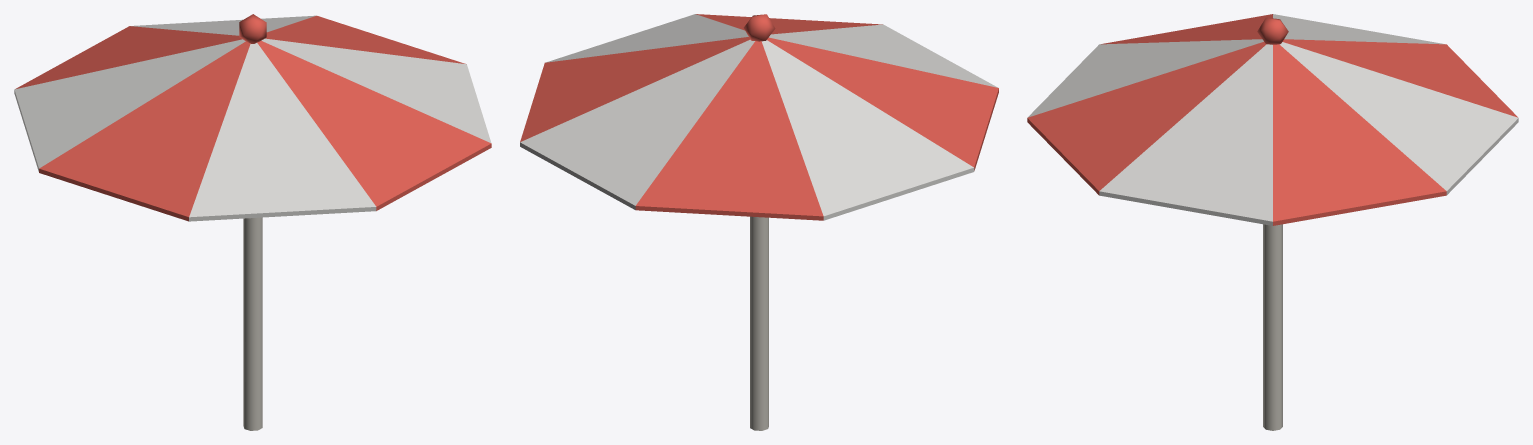
File: beach_umbrella.fbx
3 views of the same model, side by side, from view 1: azimuth 30°, elevation 25°; view 2: azimuth 150°, elevation 25°; view 3: azimuth 270°, elevation 25° (orthographic).
Visible parts, largest first — view 1: beach_umbrella; view 2: beach_umbrella; view 3: beach_umbrella.
Part boxes in pixels (box(x1,y1,x2,y2)): beach_umbrella: box(14, 14, 491, 430); beach_umbrella: box(520, 14, 998, 430); beach_umbrella: box(1027, 14, 1518, 430).
Size of the model in its own units: 1.24 by 1.13 by 1.24.
